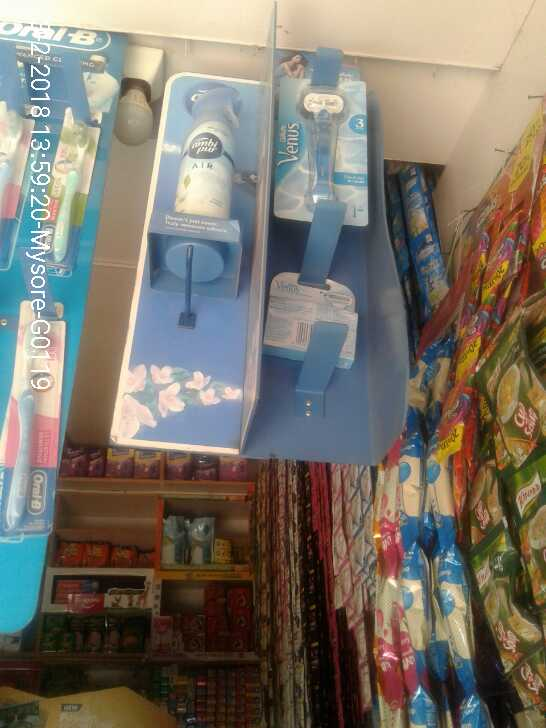beauty: (275, 77, 368, 222)
home: (167, 82, 245, 278)
pharmacy: (6, 305, 62, 521), (47, 110, 87, 273)
